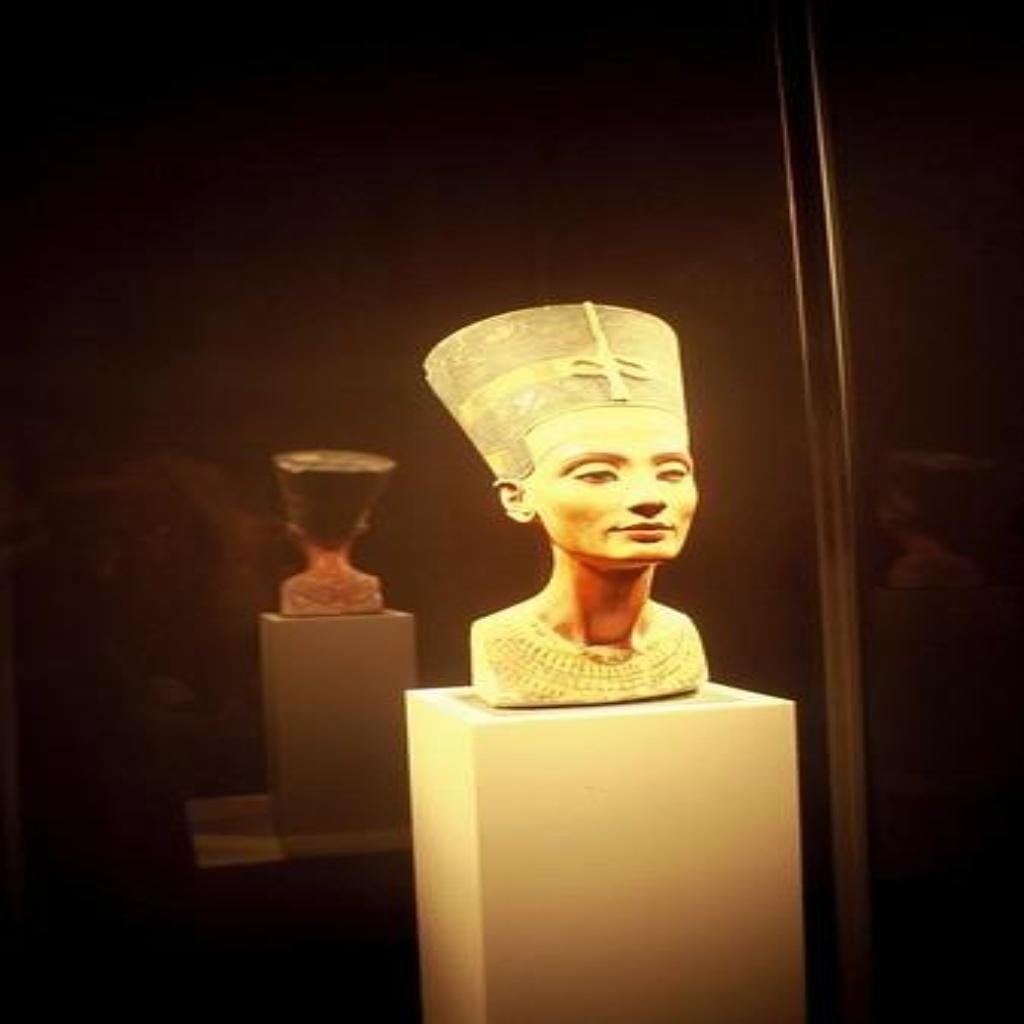Nefertiti: (416, 297, 717, 707)
